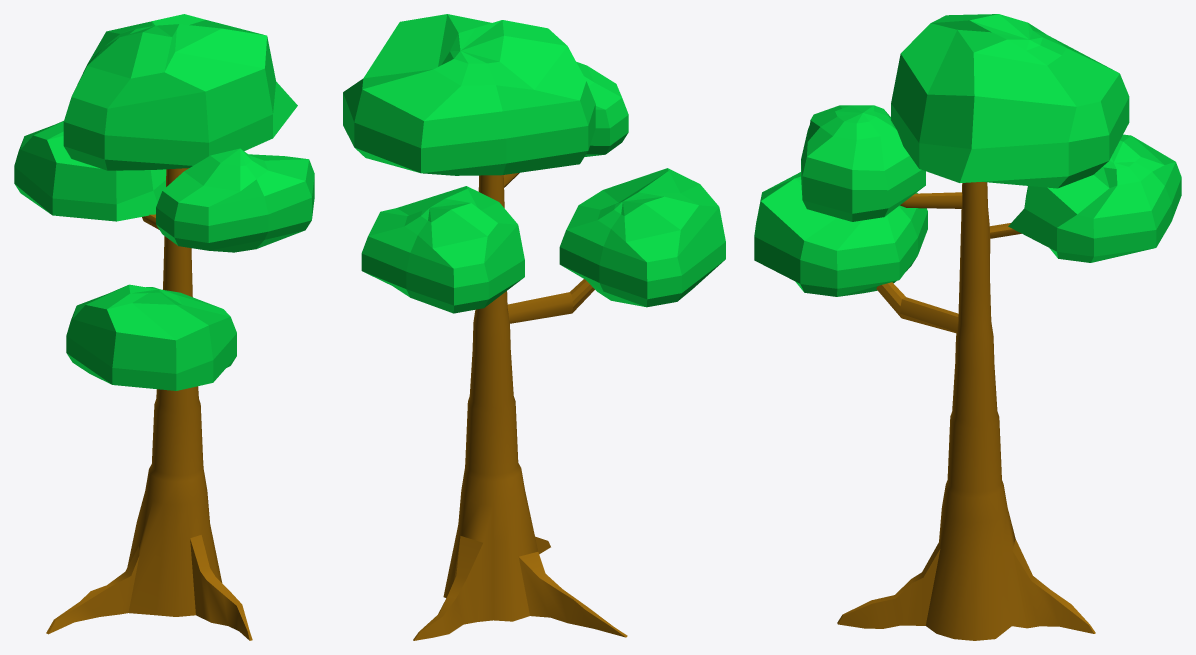
The model's file is BirchTree.fbx.
The picture shows the model from 3 angles, left to right: view 1: azimuth 30°, elevation 25°; view 2: azimuth 150°, elevation 25°; view 3: azimuth 270°, elevation 25°; orthographic projection. The views are drawn at different scales.
Parts seen in each view (by area): view 1: pasted__pasted__pasted__pSphere1, pasted__pCylinder1, pasted__pSphere1, pSphere1, pasted__pasted__pSphere1; view 2: pasted__pasted__pasted__pSphere1, pasted__pCylinder1, pasted__pSphere1, pasted__pasted__pSphere1, pSphere1; view 3: pasted__pasted__pasted__pSphere1, pasted__pCylinder1, pasted__pasted__pSphere1, pasted__pSphere1, pSphere1.
Boxes of the visible parts, bbox=[...] form: pasted__pasted__pasted__pSphere1: bbox=[63, 14, 297, 170]; pasted__pCylinder1: bbox=[46, 168, 252, 640]; pasted__pSphere1: bbox=[66, 284, 236, 390]; pSphere1: bbox=[156, 148, 314, 252]; pasted__pasted__pSphere1: bbox=[14, 121, 166, 221]; pasted__pasted__pasted__pSphere1: bbox=[343, 14, 595, 175]; pasted__pCylinder1: bbox=[413, 172, 627, 640]; pasted__pSphere1: bbox=[559, 168, 725, 307]; pasted__pasted__pSphere1: bbox=[361, 186, 524, 313]; pSphere1: bbox=[576, 62, 628, 156]; pasted__pasted__pasted__pSphere1: bbox=[891, 14, 1129, 188]; pasted__pCylinder1: bbox=[837, 182, 1095, 640]; pasted__pasted__pSphere1: bbox=[1008, 134, 1181, 262]; pasted__pSphere1: bbox=[754, 172, 927, 296]; pSphere1: bbox=[801, 105, 925, 221].
Bounding box in the file's own units: 2.63 × 5.47 × 3.52.
